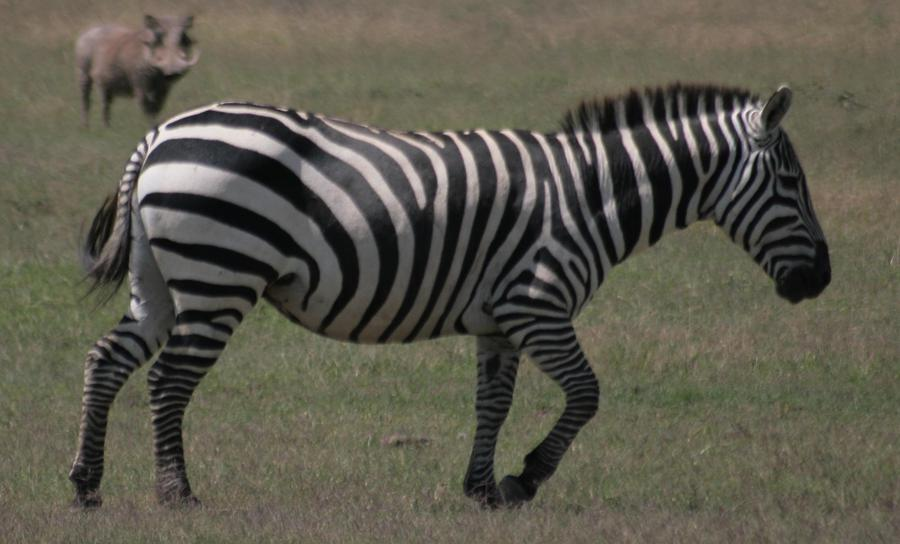zebra_plains: (143, 93, 614, 341)
